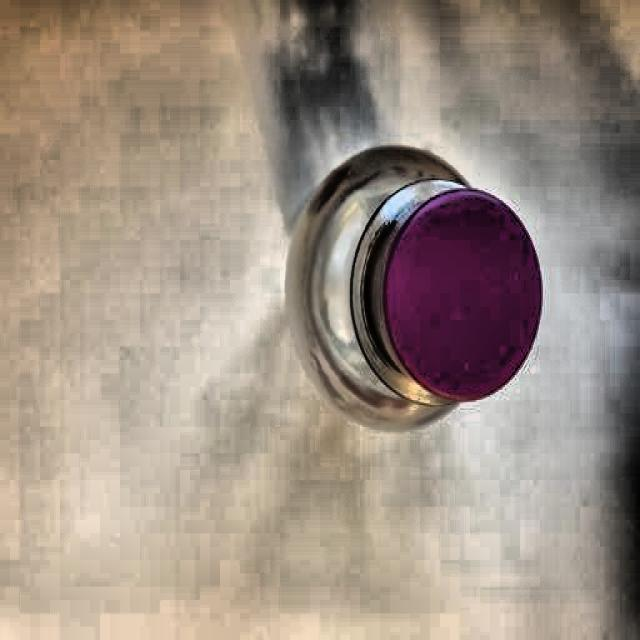glass: (282, 142, 538, 440)
